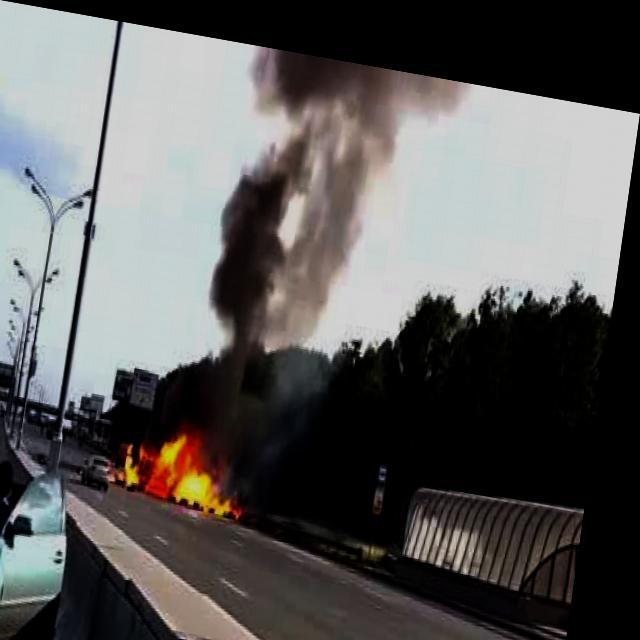Fire: (127, 412, 264, 514)
